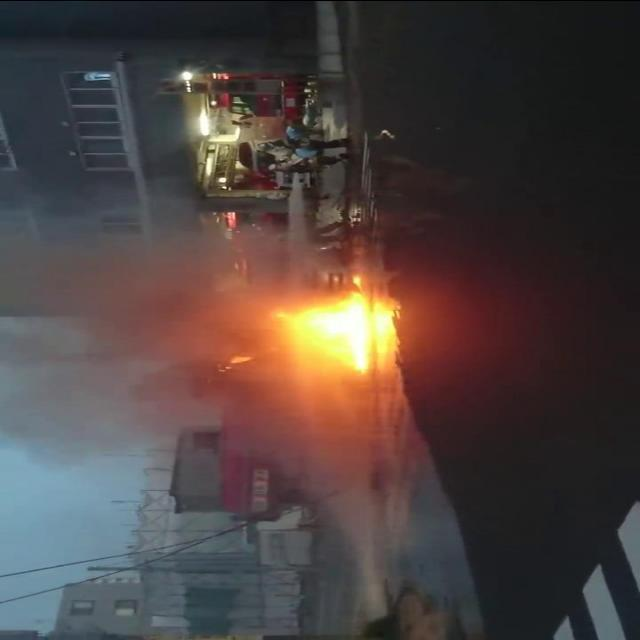Fire: (296, 296, 370, 376), (349, 273, 363, 289)
